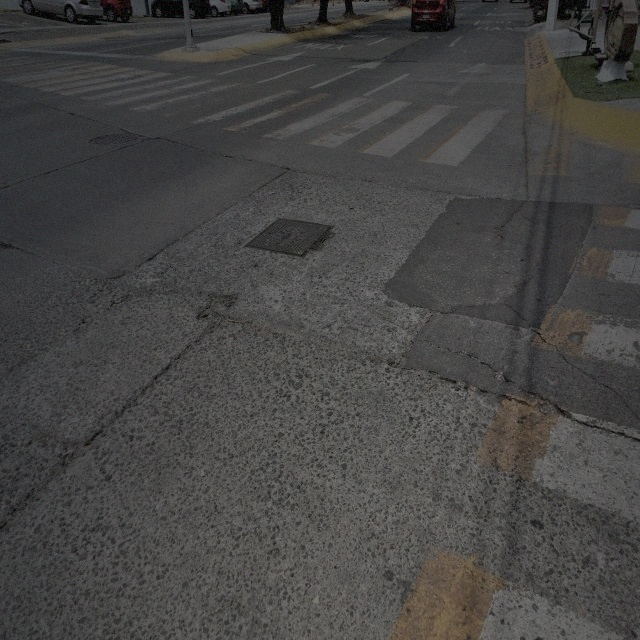pothole: (200, 288, 240, 328), (534, 390, 567, 421), (492, 366, 510, 381)
